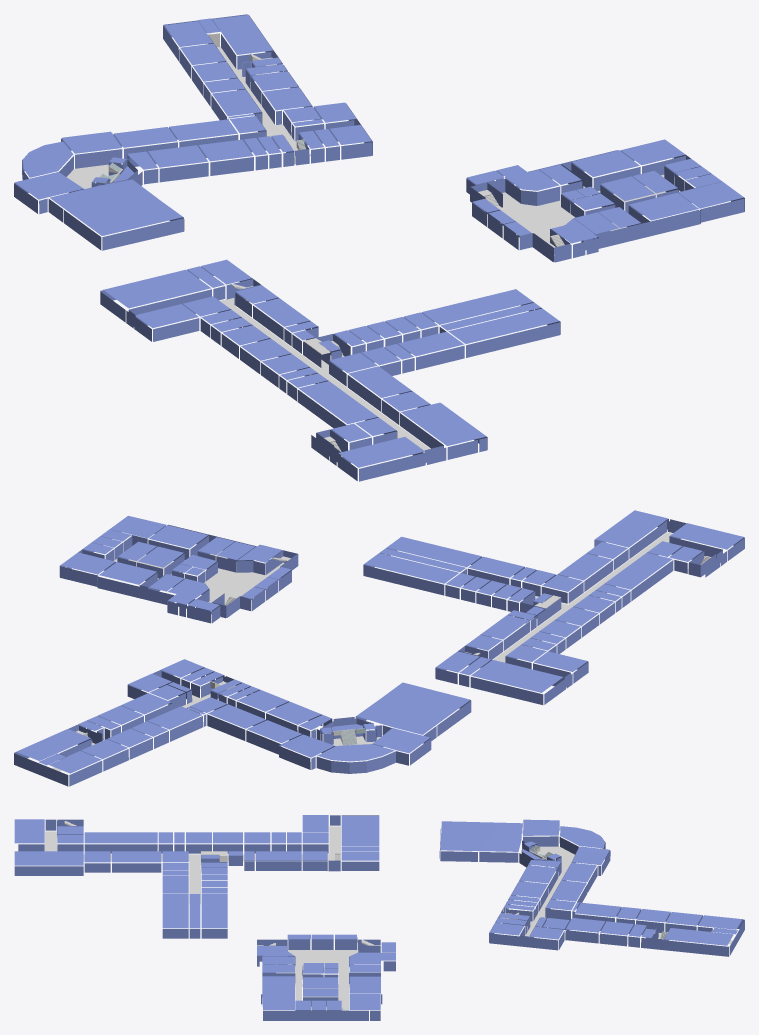
The model's file is dstu_0.glb.
The picture shows the model from 3 angles, top to bottom: view 1: azimuth 30°, elevation 25°; view 2: azimuth 150°, elevation 25°; view 3: azimuth 270°, elevation 25°; orthographic projection. The views are drawn at different scales.
Visible parts, largest first — view 1: Plane.011, Cube.007; view 2: Plane.011, Cube.007; view 3: Plane.011, Cube.007.
Part boxes in pixels (bbox=[...]): Plane.011: bbox=[14, 14, 744, 481]; Cube.007: bbox=[66, 33, 680, 463]; Plane.011: bbox=[14, 510, 744, 786]; Cube.007: bbox=[52, 532, 720, 771]; Plane.011: bbox=[14, 815, 744, 1020]; Cube.007: bbox=[45, 826, 732, 1010].
Bounding box in the file's own units: 124 × 5.71 × 188.
